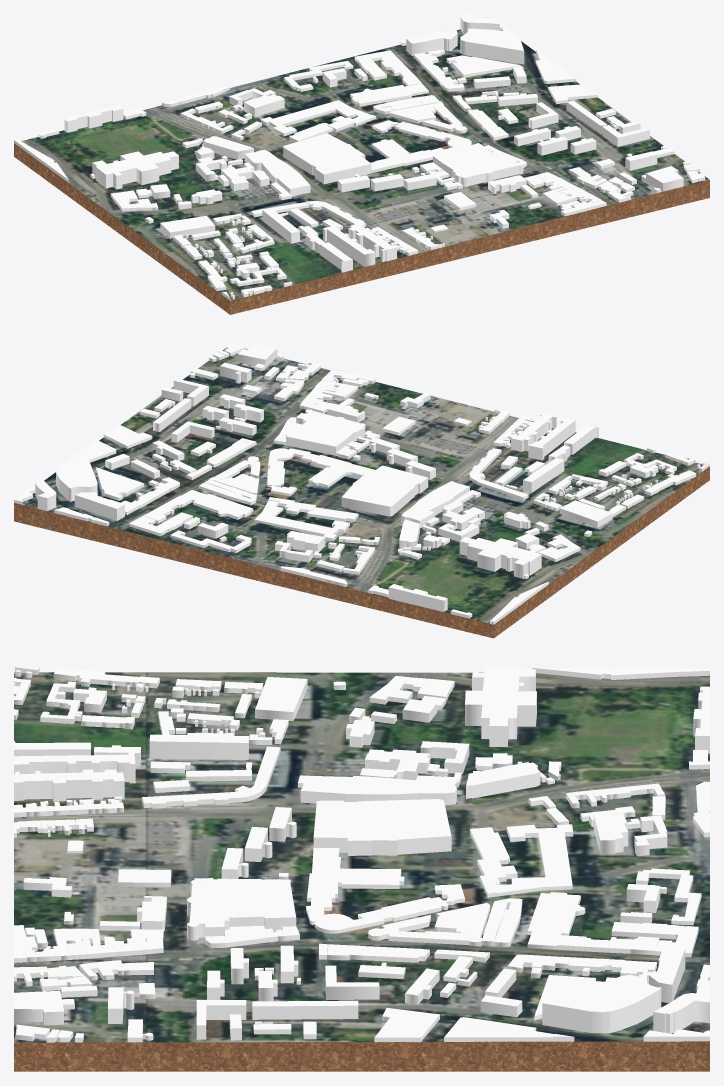
File: maps3d-2025-08-19_19-46-30.glb
3 renders of one model, top to bottom at view 1: azimuth 30°, elevation 25°; view 2: azimuth 150°, elevation 25°; view 3: azimuth 270°, elevation 25°, orthographic. The views are drawn at different scales.
Parts seen in each view (by area): view 1: tinMesh, side_south_tin, side_west_tin, building_222, building_326, building_214, building_103, building_364, building_404, building_114, building_267, building_1 (+22 smaller); view 2: tinMesh, side_north_tin, side_west_tin, building_222, building_326, building_214, building_103, building_404, building_364, building_114, building_267, building_1 (+22 smaller); view 3: tinMesh, side_east_tin, building_222, building_214, building_326, building_364, building_103, building_404, building_211, building_114, building_366, building_267 (+47 smaller).
Boxes of the visible parts, x1,y1,x2,y2 form: tinMesh: (21,29,709,300); side_south_tin: (230,180,709,314); side_west_tin: (14,143,230,314); building_222: (283,133,371,184); building_326: (433,143,523,186); building_214: (371,120,471,172); building_103: (92,151,178,189); building_364: (460,28,524,64); building_404: (244,149,310,196); building_114: (260,100,370,127); building_267: (350,83,428,106); building_1: (323,225,375,266); tinMesh: (22,348,701,623); side_north_tin: (14,503,493,638); side_west_tin: (493,466,709,637); building_222: (341,465,428,516); building_326: (286,409,365,455); building_214: (266,448,375,496); building_103: (459,537,541,578); building_404: (401,481,469,528); building_364: (56,456,97,501); building_114: (254,500,338,541); building_267: (181,490,253,519); building_1: (528,417,575,460); tinMesh: (14,672,709,1042); side_east_tin: (14,1041,709,1071); building_222: (313,799,451,855); building_214: (306,848,464,933); building_326: (187,878,296,940); building_364: (542,975,661,1033); building_103: (465,667,536,746); building_404: (300,775,457,805); building_211: (14,769,124,801); building_114: (495,824,573,896); building_366: (149,734,248,759); building_267: (527,892,585,949).
Bounding box in the file's own units: 984 × 62.68 × 768.
3 materials, 2 textured.
